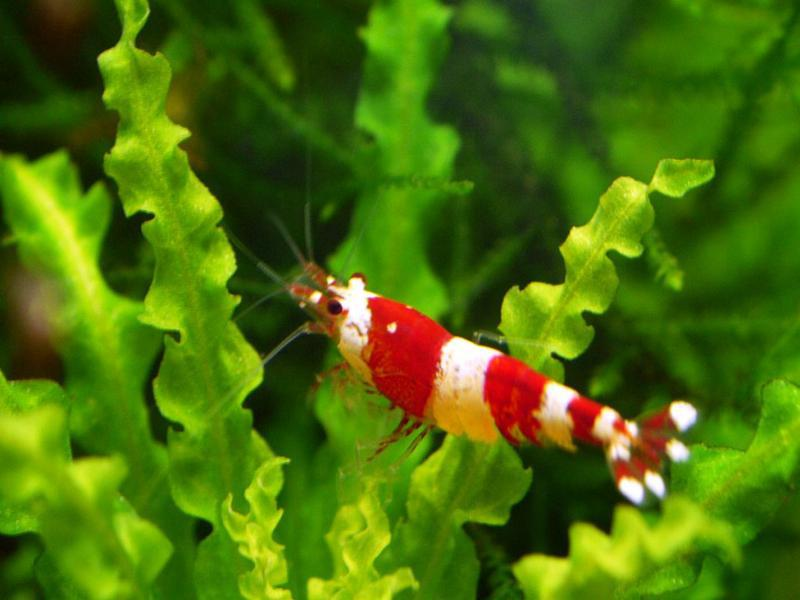shrimp: (288, 259, 698, 510)
